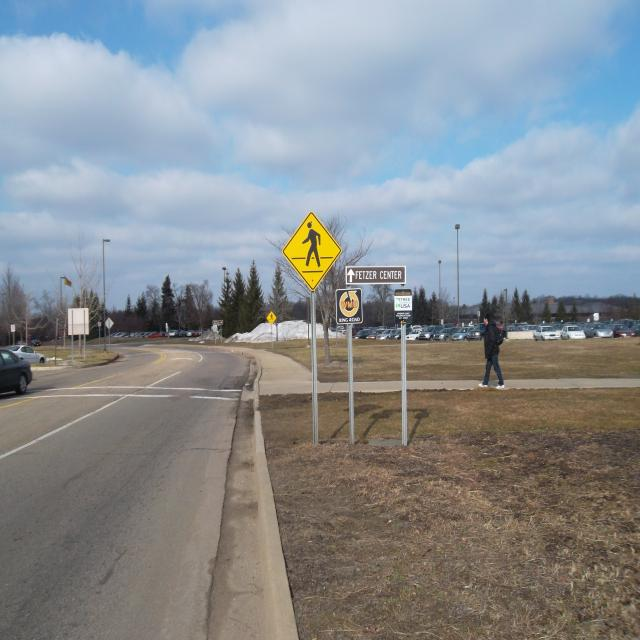regulatory: (10, 325, 16, 332), (213, 324, 217, 332)
stop: (27, 333, 31, 338)
warning: (282, 212, 342, 290), (266, 311, 277, 324)
